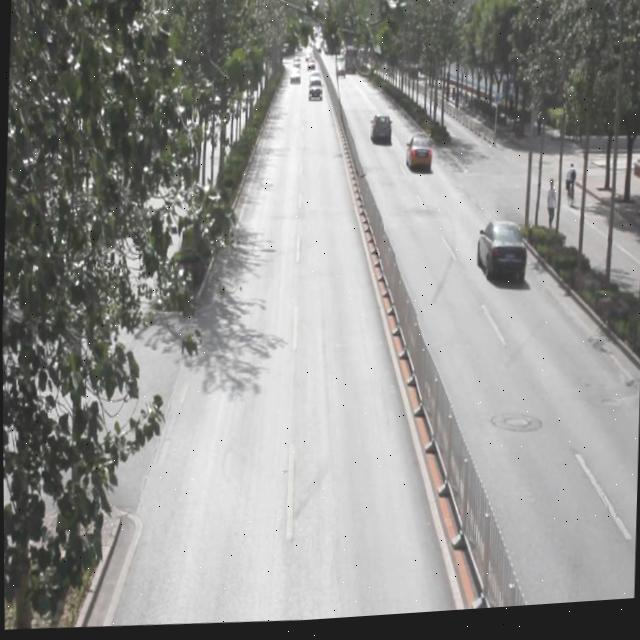car: (474, 223, 525, 293), (402, 136, 433, 182), (367, 117, 392, 153)
